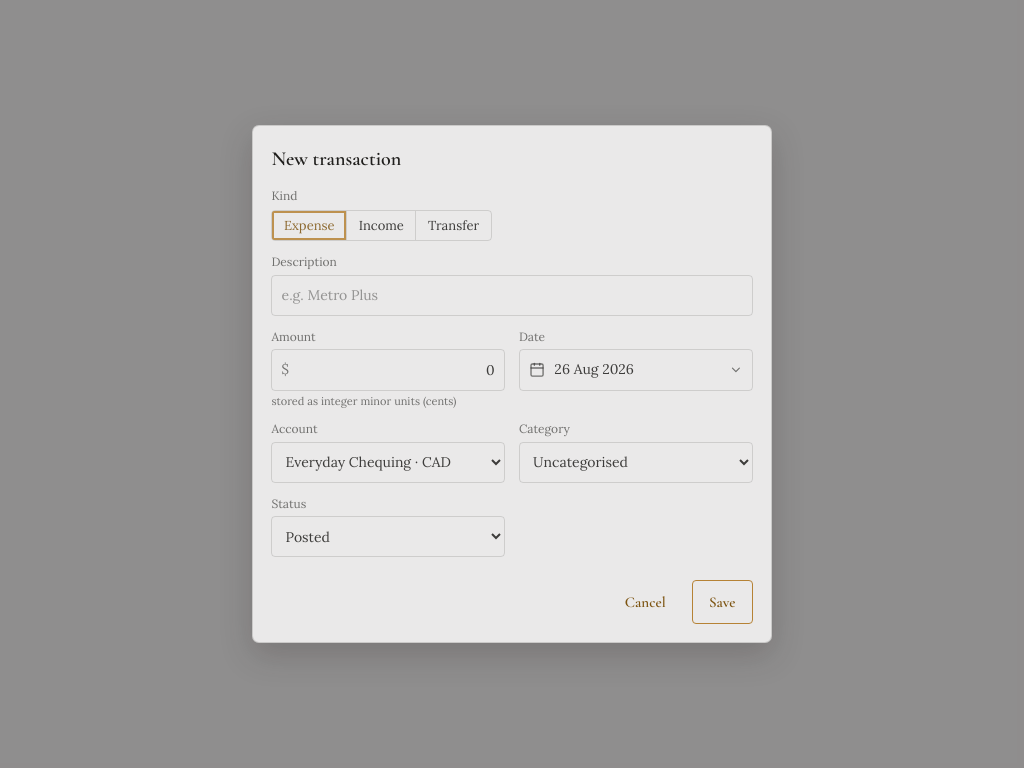
Scenario: a failure with no details at all still carries its code
Type "Metro Plus" into the field labelled "Description" at (512, 295), box [271,275,753,316]
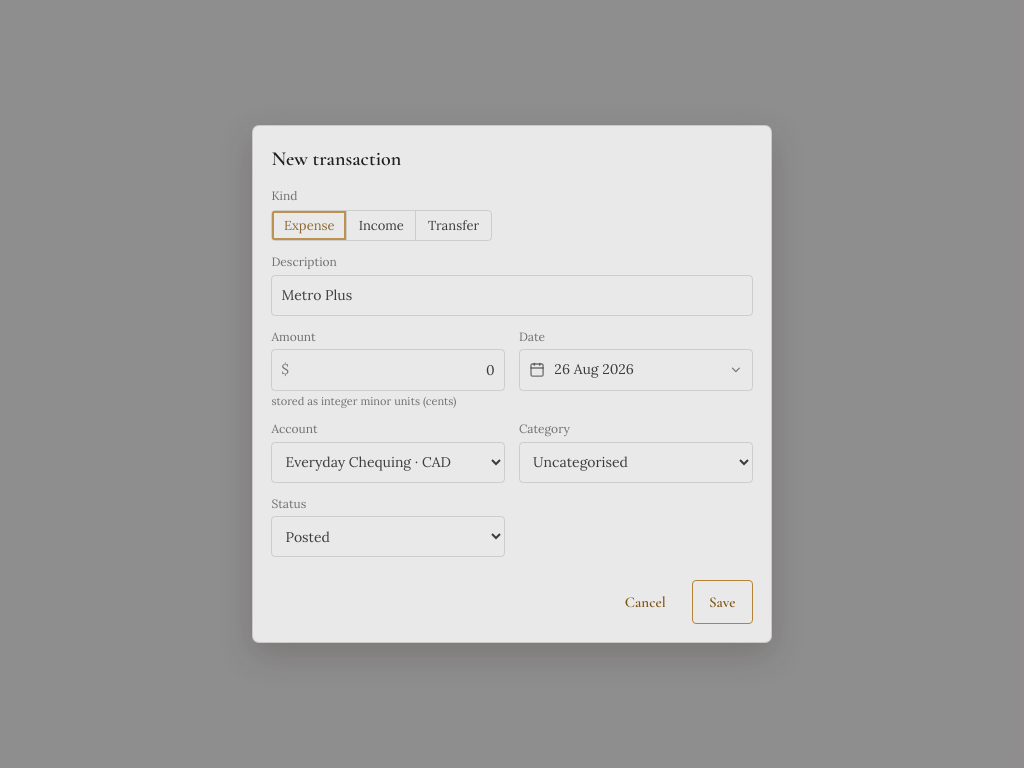
Replace the text in the field labelled "Amount" with "1000" at (397, 370), box [298,350,495,390]
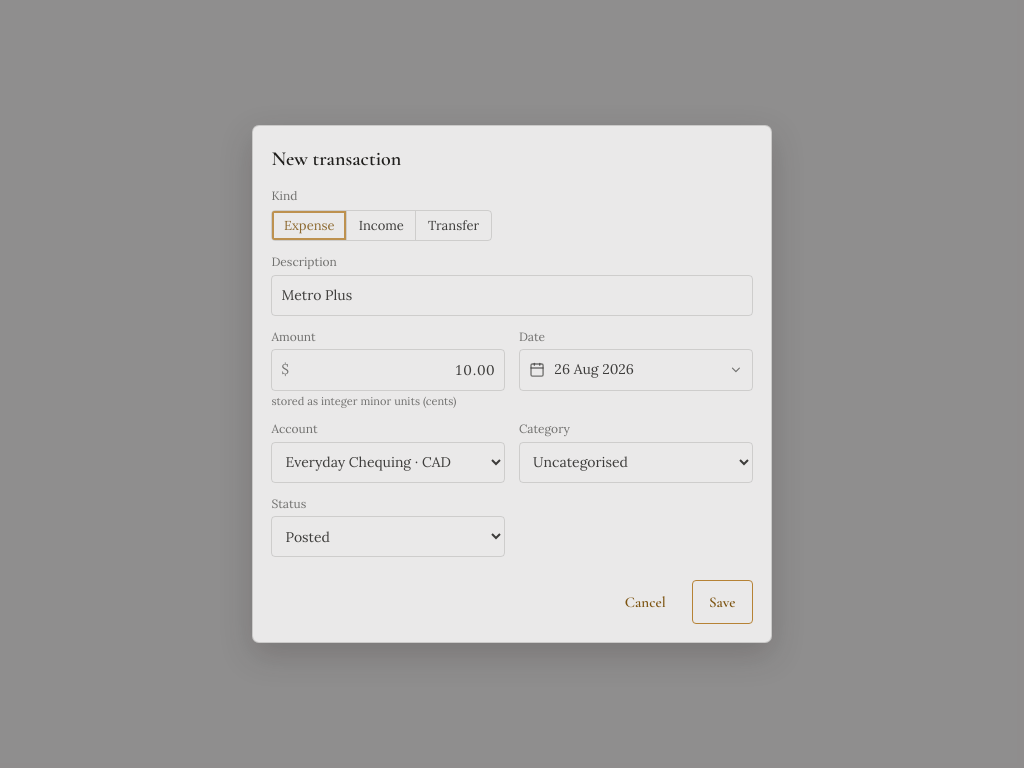
Click the button "Save" at (722, 602), box [692,580,753,624]
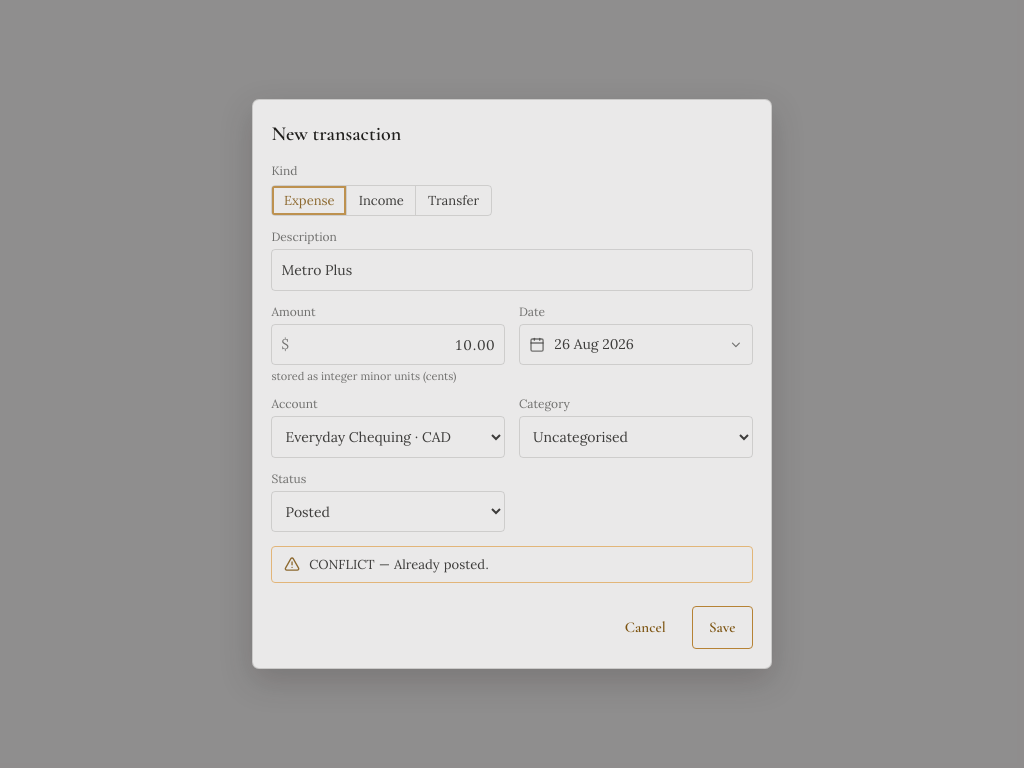
Expected: the text "CONFLICT — Already posted." is shown, [309,557,489,572]
